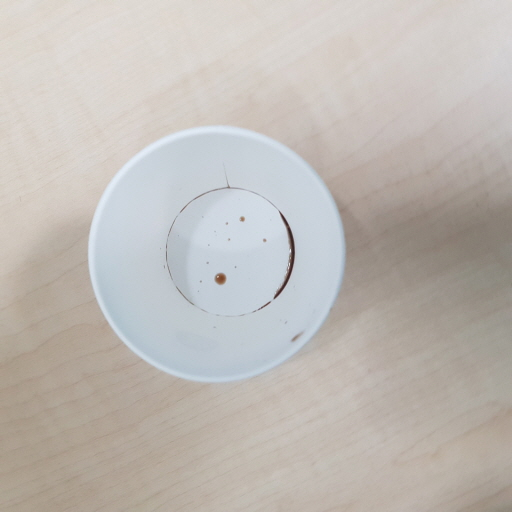Paper_1: (87, 124, 351, 389)
